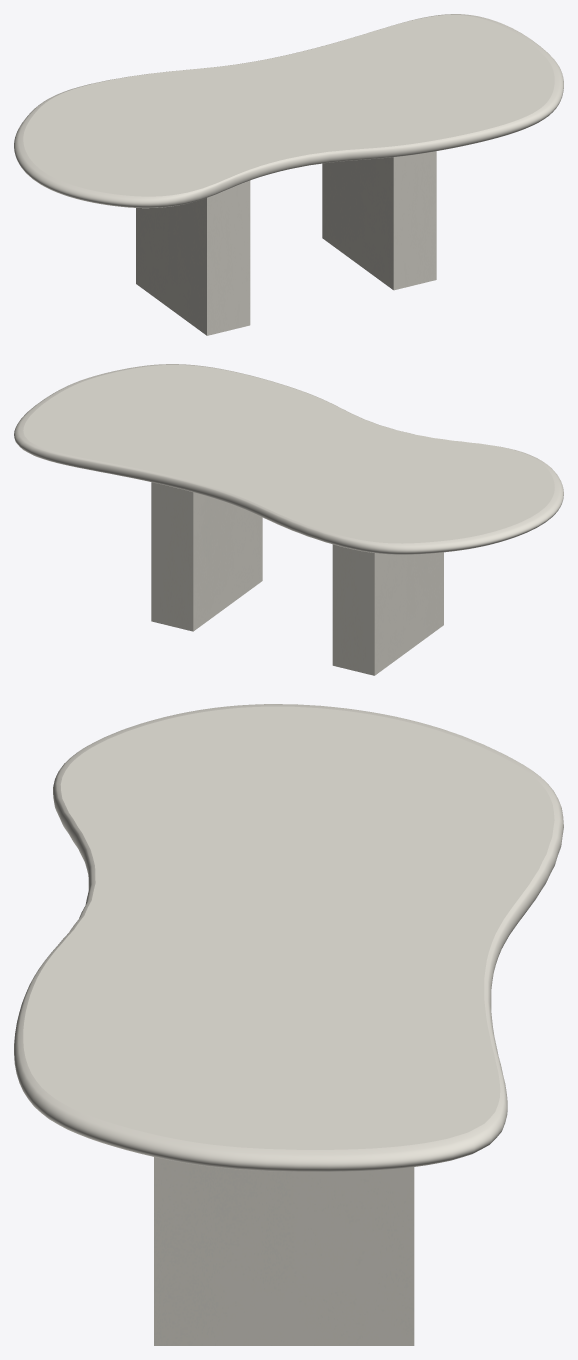
File: pale_wave_round_ridge.glb
The picture shows the model from 3 angles, top to bottom: view 1: azimuth 30°, elevation 25°; view 2: azimuth 150°, elevation 25°; view 3: azimuth 270°, elevation 25°; orthographic projection. The views are drawn at different scales.
Visible parts, largest first — view 1: round_wave, ridge; view 2: round_wave, ridge; view 3: round_wave, ridge.
Boxes of the visible parts, x1=… form: round_wave: x1=14, y1=14, x2=563, y2=208; ridge: x1=136, y1=151, x2=436, y2=335; round_wave: x1=14, y1=364, x2=563, y2=554; ridge: x1=151, y1=482, x2=443, y2=675; round_wave: x1=14, y1=704, x2=563, y2=1171; ridge: x1=154, y1=1157, x2=414, y2=1345.
Size of the model in its own units: 7.76 by 2.5 by 3.93.
Materials: 1 (1 with a texture image).
